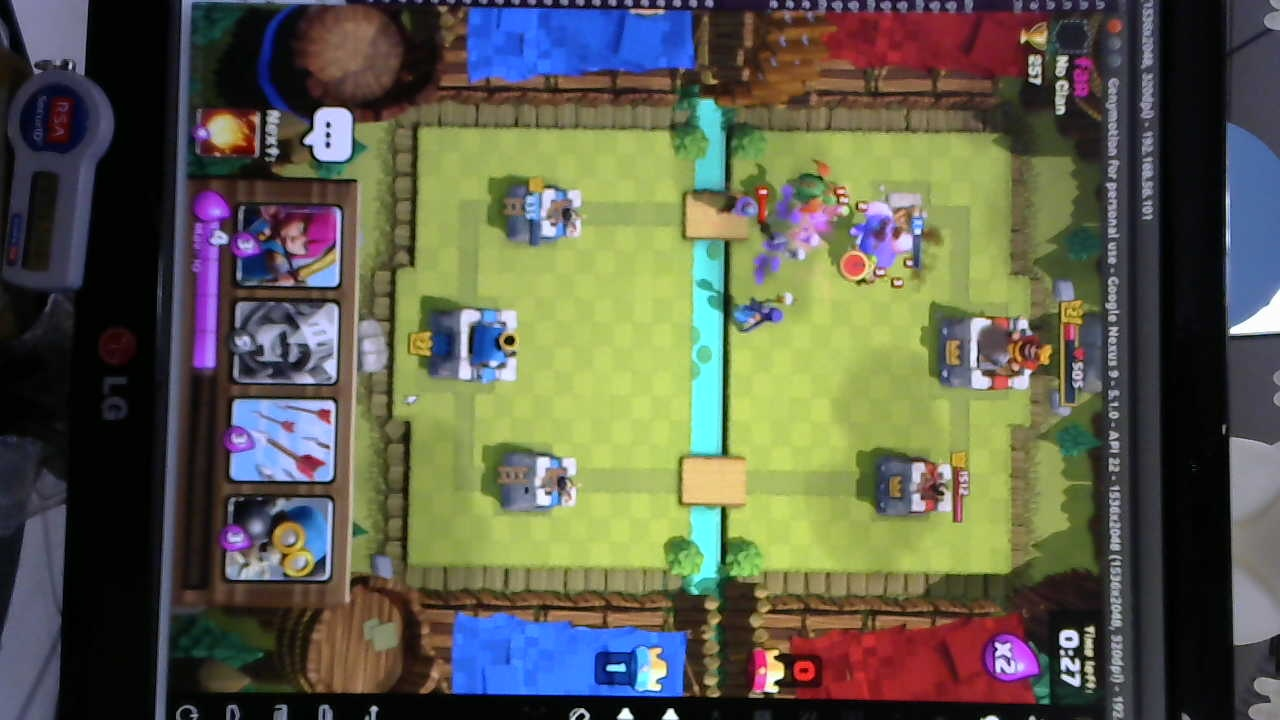arena: (496, 450, 581, 514), (501, 183, 586, 246)
dragon: (790, 166, 844, 211)
earena: (871, 454, 955, 518)
eking: (935, 314, 1047, 393)
giant: (856, 195, 912, 278)
king: (424, 307, 522, 385)
musketeer: (717, 190, 766, 223)
witch: (724, 291, 793, 333)
